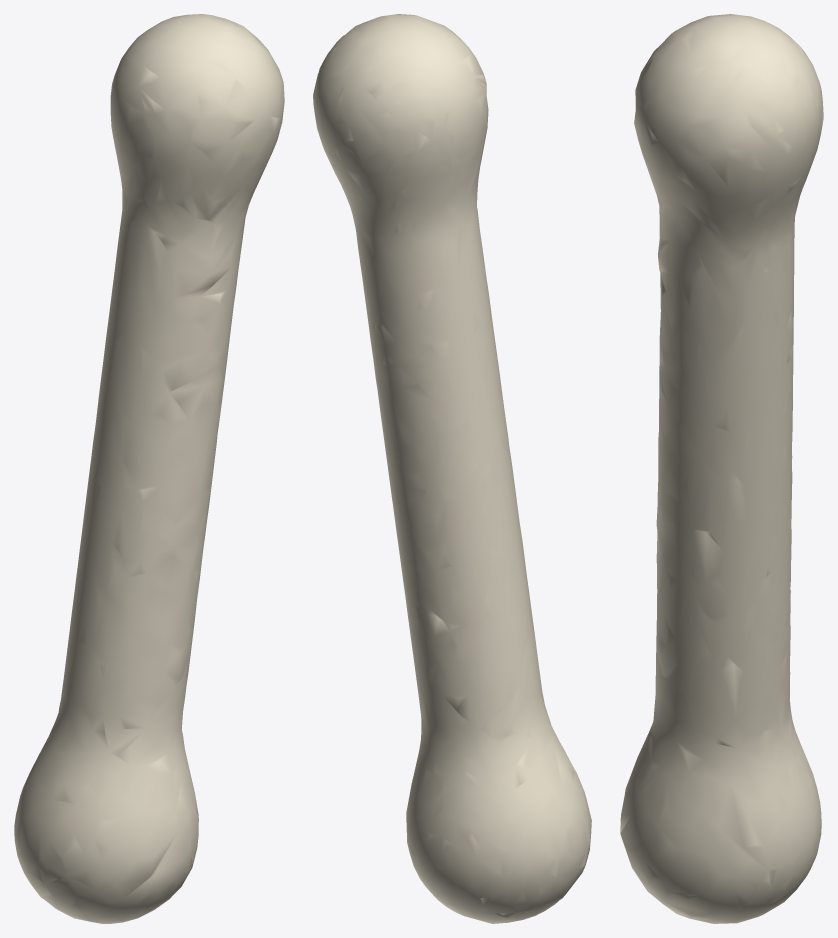
The model's file is radius_r.glb.
3 views of the same model, side by side, from view 1: azimuth 30°, elevation 25°; view 2: azimuth 150°, elevation 25°; view 3: azimuth 270°, elevation 25° (orthographic). The views are drawn at different scales.
Parts seen in each view (by area): view 1: geometry_0; view 2: geometry_0; view 3: geometry_0.
Boxes of the visible parts, box(x1,y1,x2,y2) form: geometry_0: box(14, 14, 284, 923); geometry_0: box(313, 14, 591, 923); geometry_0: box(620, 14, 823, 923).
Bounding box in the file's own units: 0.2112 × 0.7015 × 0.1374.
